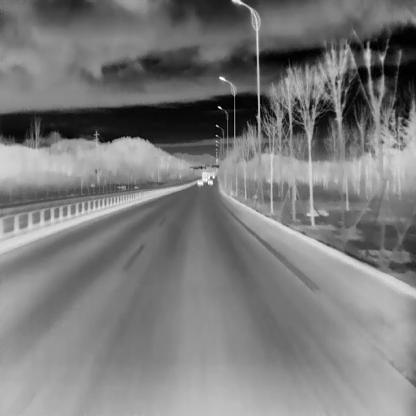car: (197, 179, 202, 184), (208, 178, 212, 184)
truck: (202, 172, 207, 182), (208, 171, 210, 179)
